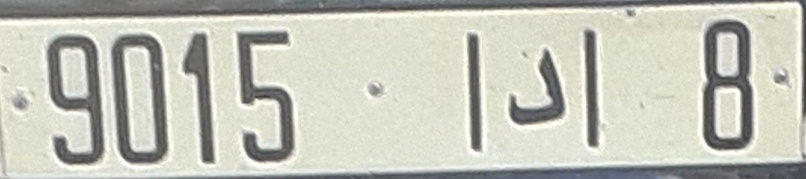0: (110, 30, 173, 165)
1: (178, 30, 223, 168)
5: (232, 28, 300, 166)
8: (694, 17, 759, 155)
9: (45, 32, 107, 165)
d: (506, 46, 574, 131)
